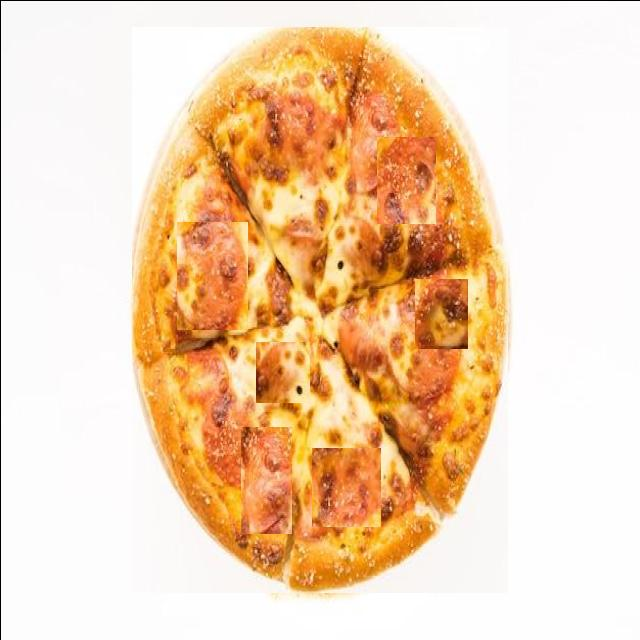pepperoni: (176, 221, 247, 329), (240, 426, 291, 533), (311, 447, 380, 526), (376, 136, 435, 223), (414, 278, 467, 348), (255, 341, 309, 402)
pizza: (131, 26, 507, 592)
